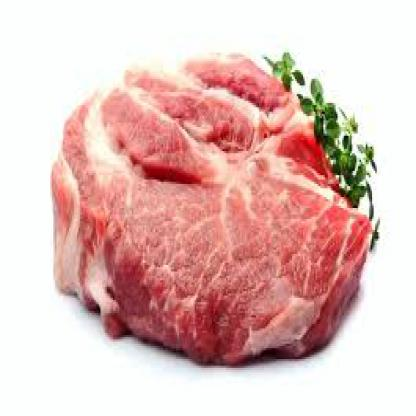pork: (61, 57, 369, 359)
